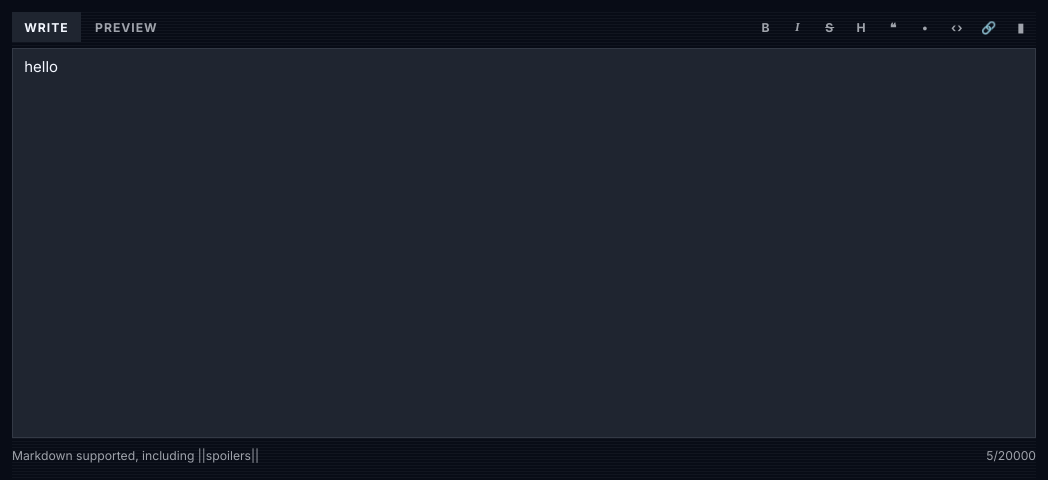
Scenario: MarkdownEditor › write and preview › hides the toolbar while previewing, there being no selection to act on
Check: the button named "Bold" is shown, box [751, 12, 781, 42]
Click the tab "Preview" at [126, 27], box [83, 12, 170, 42]
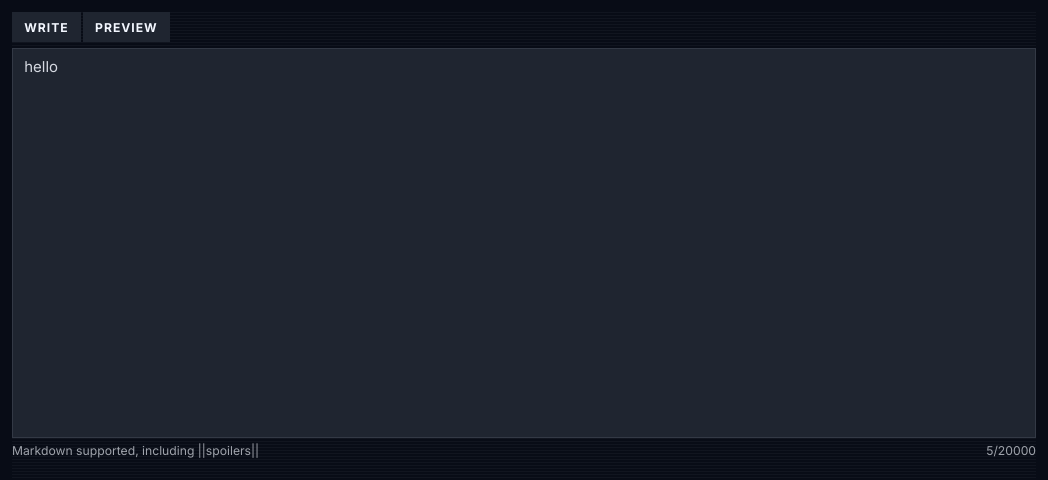
Check: the button "Bold" is gone
